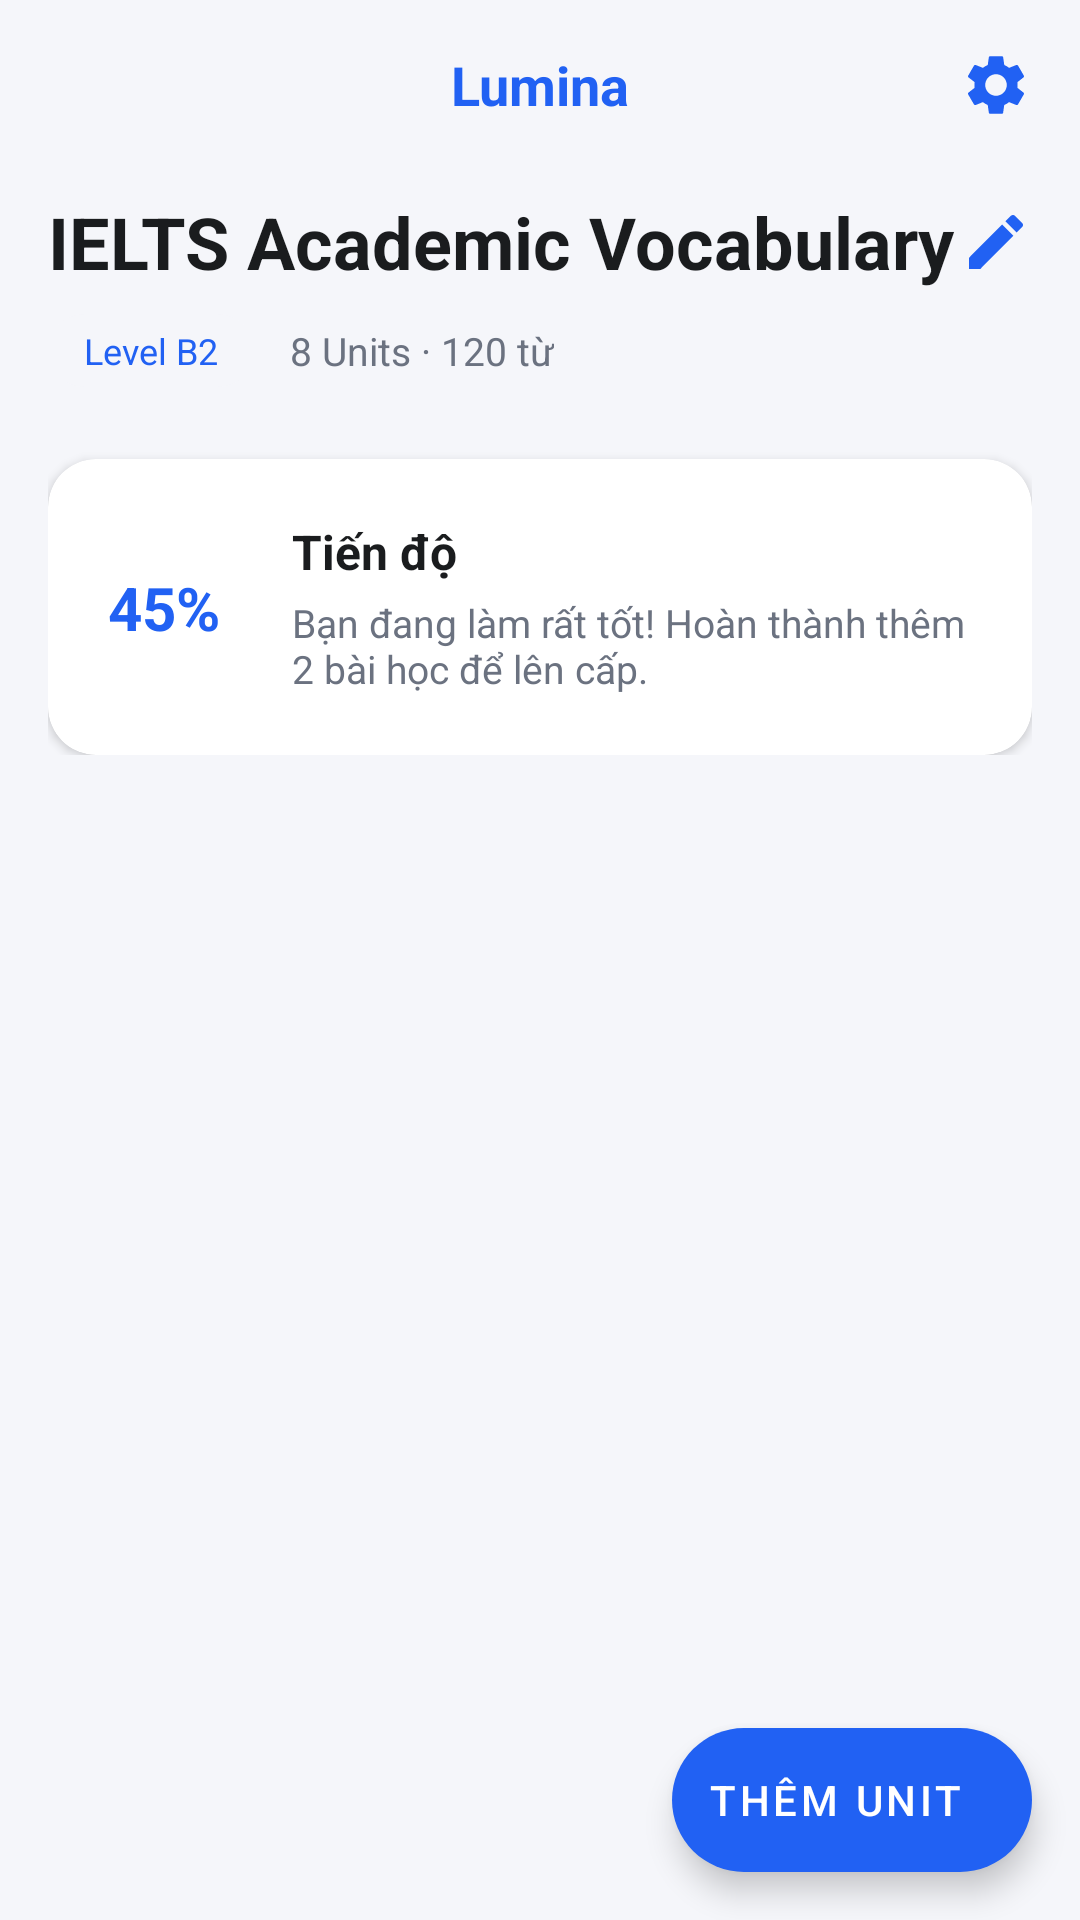

Locate icon controls on the screen. Image size 1080w x 1920h, boxes as (x1, y1, x2, y2).
edit: (969, 215, 1023, 269)
settings: (968, 56, 1024, 114)
